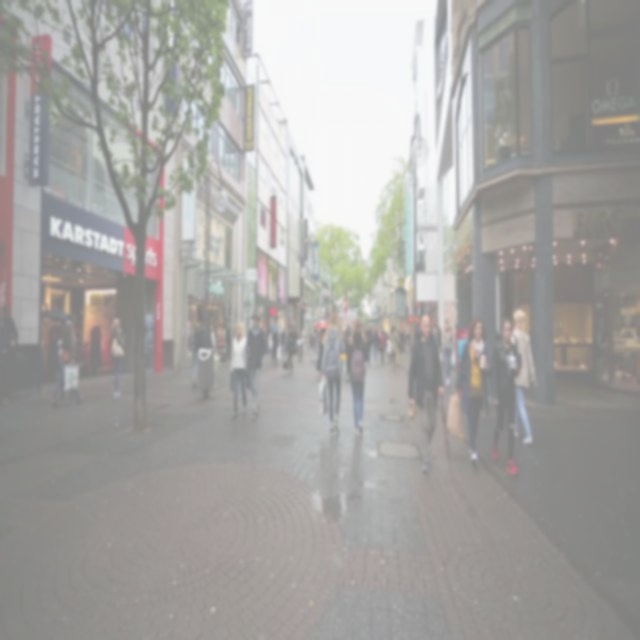pessoa: (406, 312, 446, 476), (452, 313, 492, 467), (488, 314, 524, 478), (510, 305, 540, 447), (316, 310, 348, 438), (344, 316, 370, 440), (244, 305, 268, 423), (48, 316, 78, 410), (0, 300, 21, 411), (229, 321, 248, 418), (110, 317, 126, 399), (190, 316, 207, 390), (68, 138, 84, 208), (314, 321, 332, 379), (196, 318, 210, 390), (442, 314, 456, 386), (41, 314, 58, 372), (554, 318, 570, 368), (284, 324, 298, 377), (210, 318, 220, 391), (388, 322, 401, 372), (66, 312, 84, 344), (430, 314, 443, 358), (343, 320, 353, 372), (198, 210, 208, 260), (486, 326, 500, 358), (364, 322, 374, 366), (214, 222, 224, 266), (371, 326, 382, 364), (378, 328, 388, 367), (482, 370, 490, 418), (270, 329, 280, 367), (296, 326, 306, 364), (223, 317, 232, 359), (278, 324, 288, 360), (50, 296, 66, 315), (385, 332, 393, 364), (186, 314, 192, 354), (266, 331, 274, 354), (217, 316, 223, 343), (82, 336, 90, 354), (313, 328, 318, 356), (432, 386, 439, 406), (398, 328, 404, 351), (212, 313, 217, 340), (416, 321, 422, 343), (192, 309, 198, 331), (72, 320, 80, 333), (309, 330, 314, 350), (406, 330, 411, 350), (68, 310, 78, 320), (340, 356, 345, 374), (408, 348, 412, 370), (452, 322, 459, 334), (411, 328, 415, 348), (404, 326, 407, 351), (362, 326, 368, 338), (377, 326, 381, 338), (348, 373, 352, 384), (395, 328, 399, 339), (384, 331, 387, 342)
